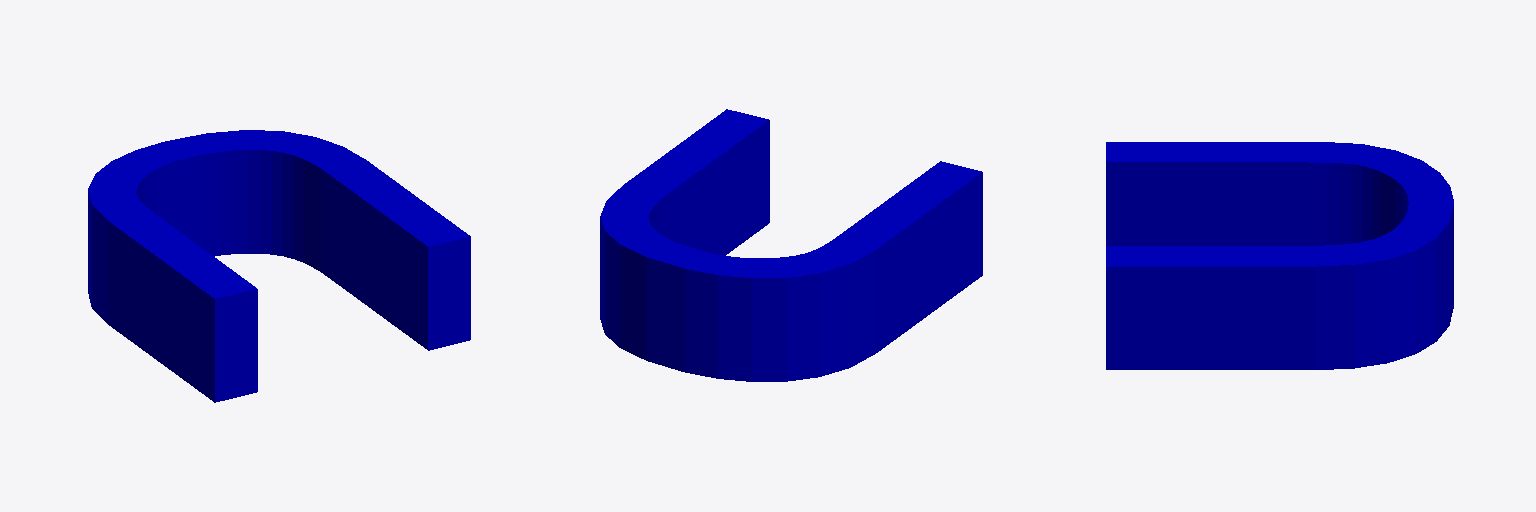
The picture shows the model from 3 angles: view 1: azimuth 30°, elevation 25°; view 2: azimuth 150°, elevation 25°; view 3: azimuth 270°, elevation 25°; orthographic projection.
Parts seen in each view (by area): view 1: Font.001_Mesh.001; view 2: Font.001_Mesh.001; view 3: Font.001_Mesh.001.
Part boxes in pixels (left/top/right/bottom): Font.001_Mesh.001: left=88, top=130, right=470, bottom=402; Font.001_Mesh.001: left=600, top=109, right=982, bottom=381; Font.001_Mesh.001: left=1106, top=142, right=1453, bottom=369.
Bounding box in the file's own units: 4.82 × 1.86 × 5.67.